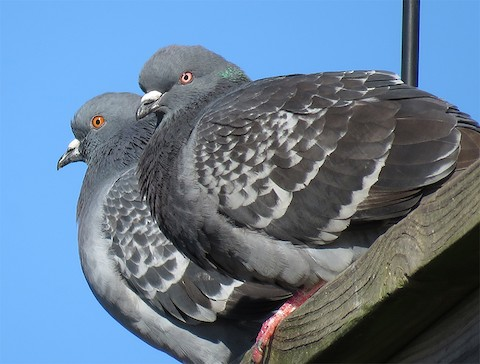pigeon: (125, 40, 465, 355), (52, 89, 343, 354)
